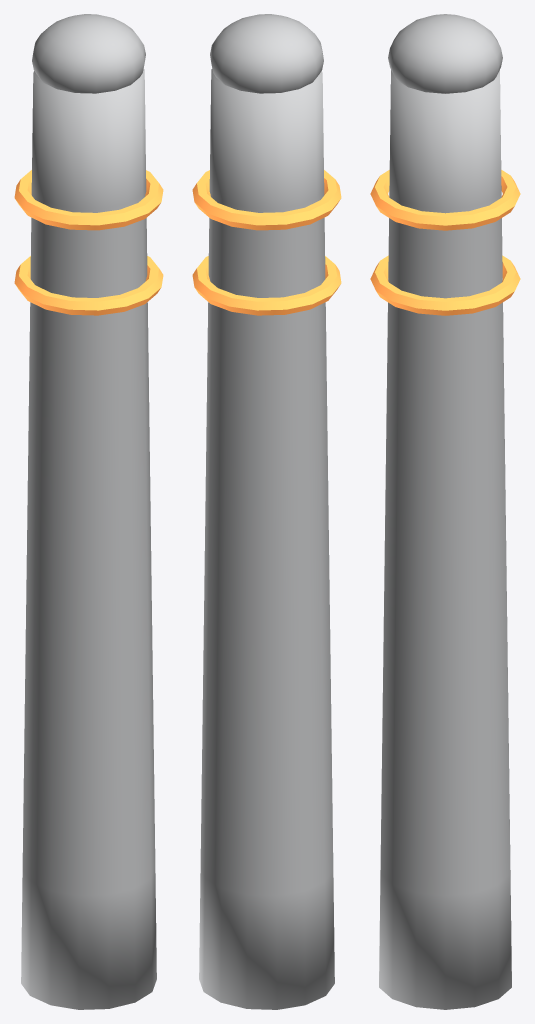
File: bollard.glb
3 renders of one model, left to right at view 1: azimuth 30°, elevation 25°; view 2: azimuth 150°, elevation 25°; view 3: azimuth 270°, elevation 25°, orthographic.
Parts seen in each view (by area): view 1: bollard; view 2: bollard; view 3: bollard.
Boxes of the visible parts, box(x1,y1,x2,y2) form: bollard: box(14, 14, 163, 1009); bollard: box(192, 14, 341, 1009); bollard: box(370, 14, 520, 1009).
Bounding box in the file's own units: 0.128 × 0.9023 × 0.128.
